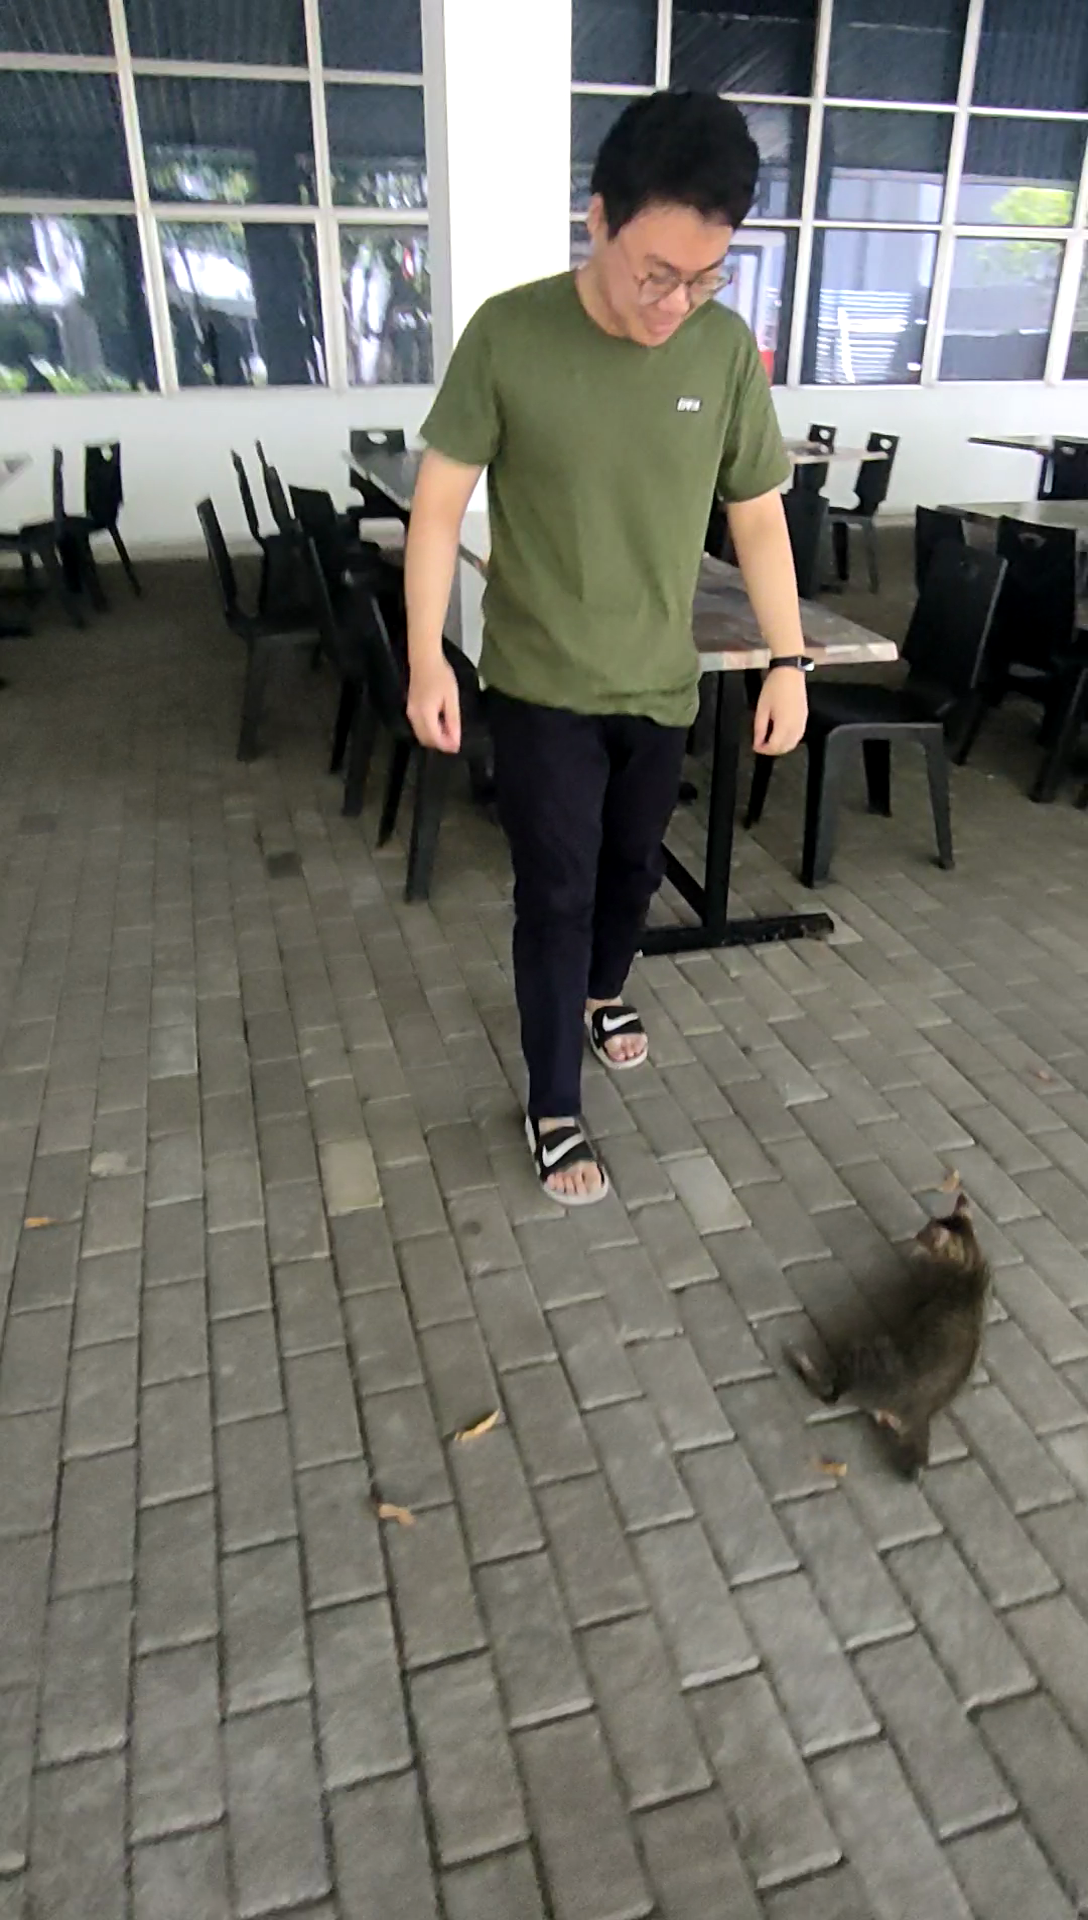walk: (405, 82, 812, 1212)
